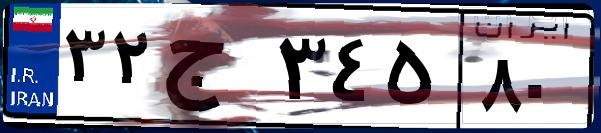0: (525, 38, 570, 115)
2: (110, 28, 158, 98)
3: (270, 28, 330, 110), (57, 26, 110, 100)
4: (330, 28, 385, 110)
5: (385, 28, 445, 110)
8: (475, 38, 525, 113)
ج: (158, 20, 270, 120)
